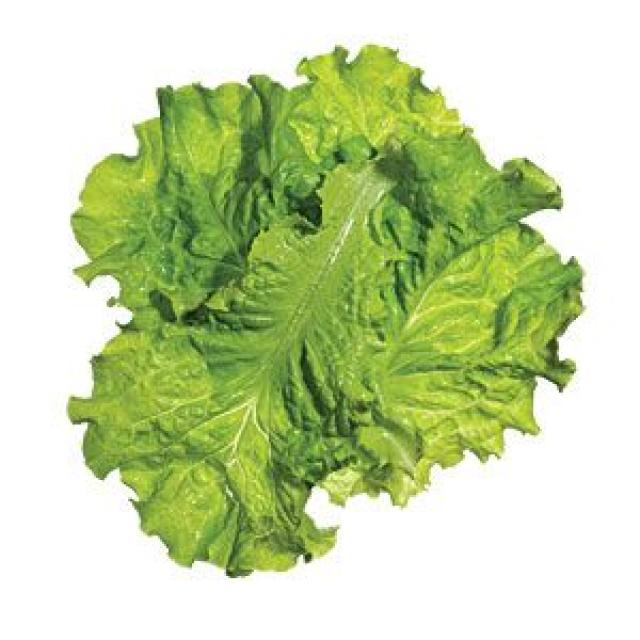lettuce: (71, 47, 580, 573)
